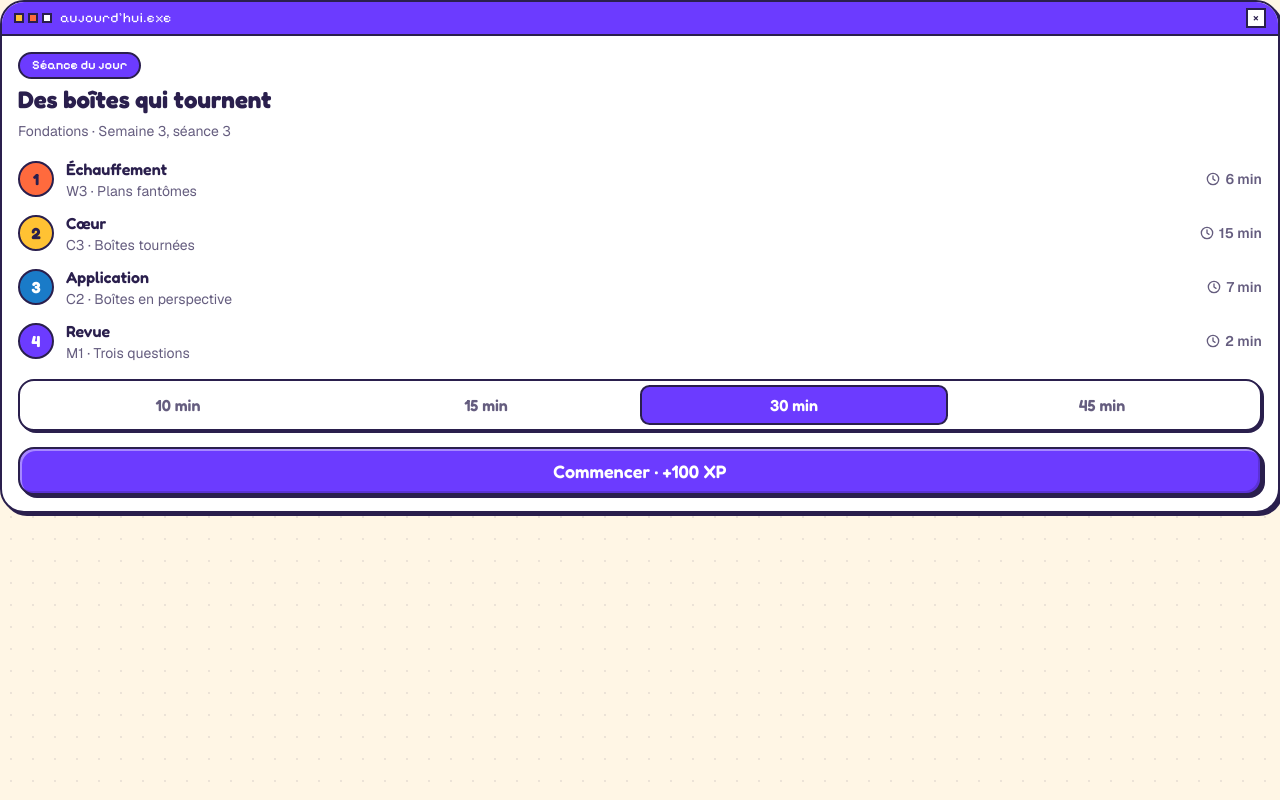
it: TodaySessionCard › shows the session, its four blocks and the XP of the chosen length
Expected: the heading "Des boîtes qui tournent" is shown, [18,85,271,114]
Expected: the number of list items is 4, [18,157,1262,201]; [18,211,1262,255]; [18,265,1262,309]; [18,319,1262,363]
What coordinates should you click on to do the following:
click the radio button labelled "15 min"
I would click on:
 (486, 405)
Its box is [332,385,640,425].
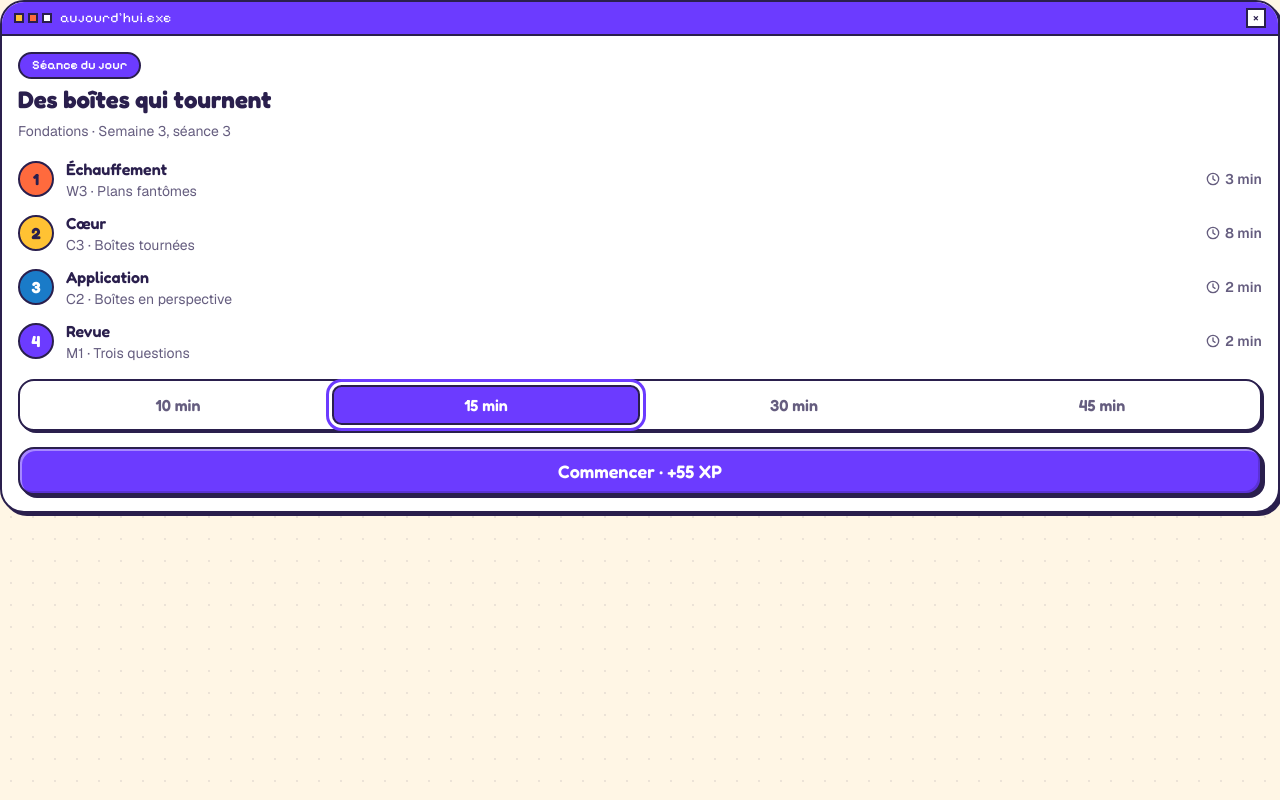
Result: the text "8 min" is shown at [1205,223,1262,243]
Result: the button "Commencer · +55 XP" is shown at [18,447,1262,495]
